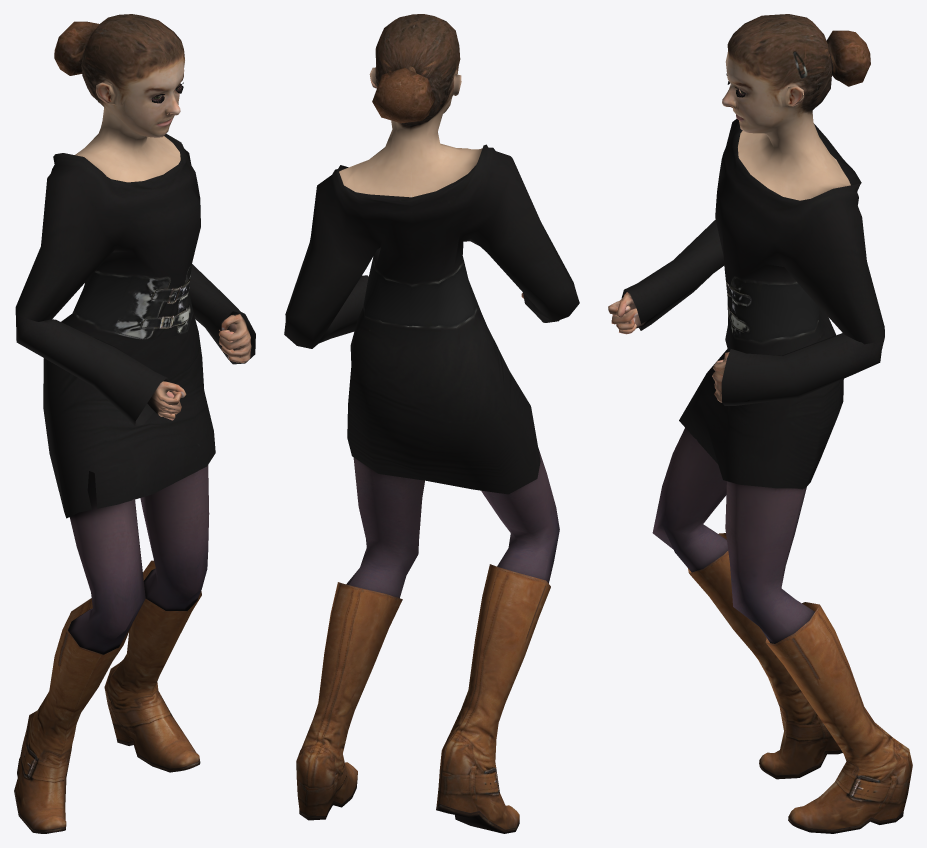
Rendered from Ana_Model_000025.obj.
The picture shows the model from 3 angles, left to right: view 1: azimuth 30°, elevation 25°; view 2: azimuth 150°, elevation 25°; view 3: azimuth 270°, elevation 25°; orthographic projection.
Visible parts, largest first — view 1: Ana_Cube.004; view 2: Ana_Cube.004; view 3: Ana_Cube.004.
Part boxes in pixels (left/top/right/bottom): Ana_Cube.004: left=14, top=14, right=255, bottom=833; Ana_Cube.004: left=284, top=14, right=579, bottom=833; Ana_Cube.004: left=608, top=14, right=912, bottom=833.
Size of the model in its own units: 0.6038 by 1.9 by 0.6583.
1 material, 1 textured.
